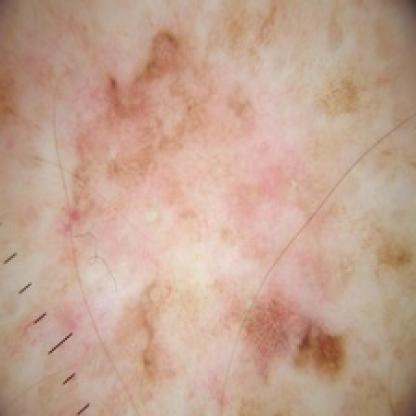malignant: (60, 37, 232, 251)
